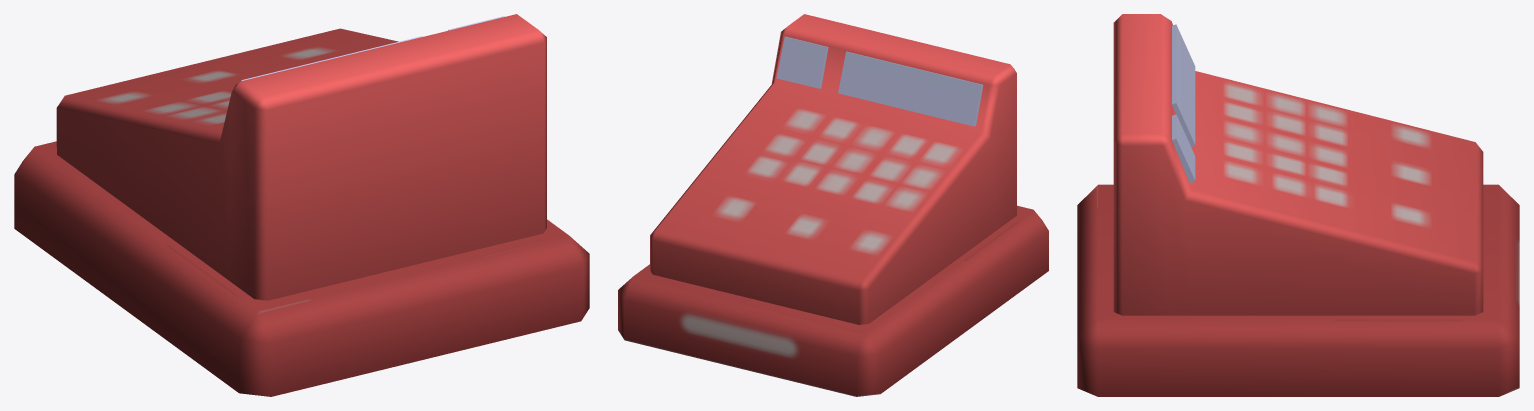
Rendered from Cash_Register.fbx.
3 renders of one model, left to right at view 1: azimuth 30°, elevation 25°; view 2: azimuth 150°, elevation 25°; view 3: azimuth 270°, elevation 25°, orthographic. The views are drawn at different scales.
Parts seen in each view (by area): view 1: Cash_Register; view 2: Cash_Register; view 3: Cash_Register.
Part boxes in pixels (box(x1,y1,x2,y2)): Cash_Register: box(14, 14, 589, 396); Cash_Register: box(618, 14, 1048, 396); Cash_Register: box(1077, 14, 1519, 396).
Size of the model in its own units: 37.88 by 28.61 by 46.49.
